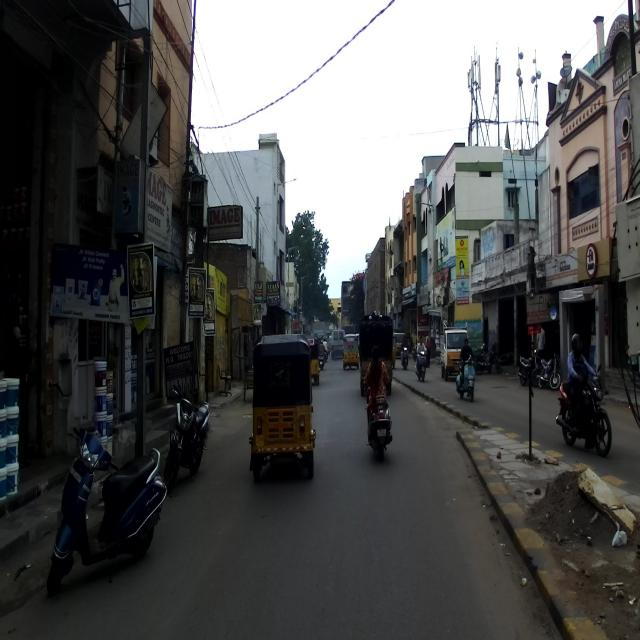autorickshaw: (248, 334, 316, 481)
motorcycle: (555, 364, 612, 457), (162, 382, 210, 489)
scooter: (47, 426, 168, 599), (364, 373, 393, 460), (453, 358, 477, 399)
